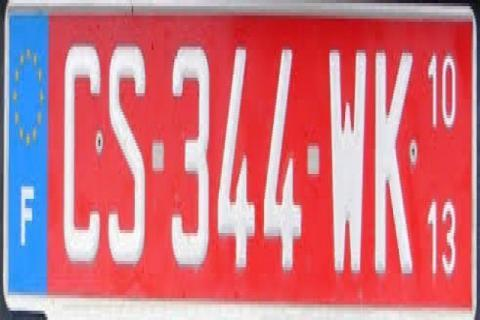LicensePlate: (3, 4, 477, 312)
